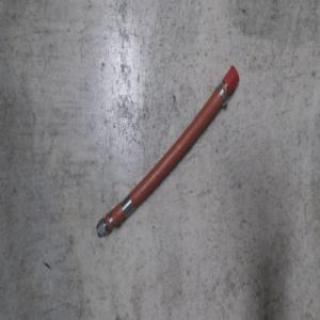Hosetrack_idkeyframe: (94, 61, 242, 239)
